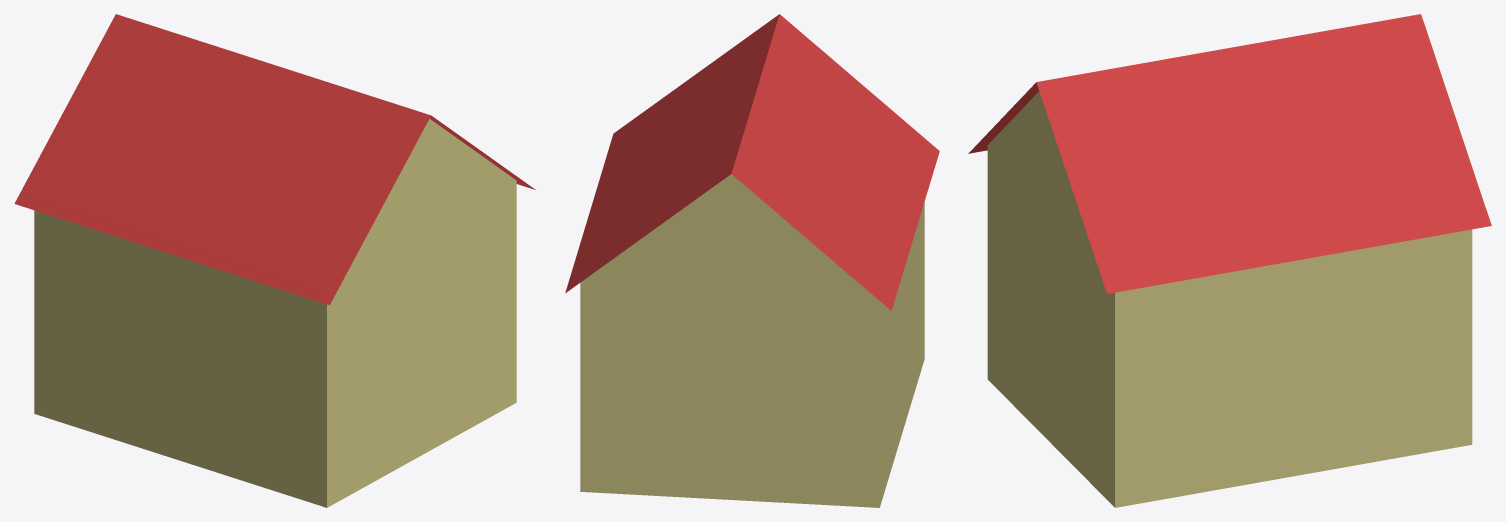
3 renders of one model, left to right at view 1: azimuth 30°, elevation 25°; view 2: azimuth 150°, elevation 25°; view 3: azimuth 270°, elevation 25°, orthographic. The views are drawn at different scales.
Size of the model in its own units: 16.52 by 17.56 by 13.42.
